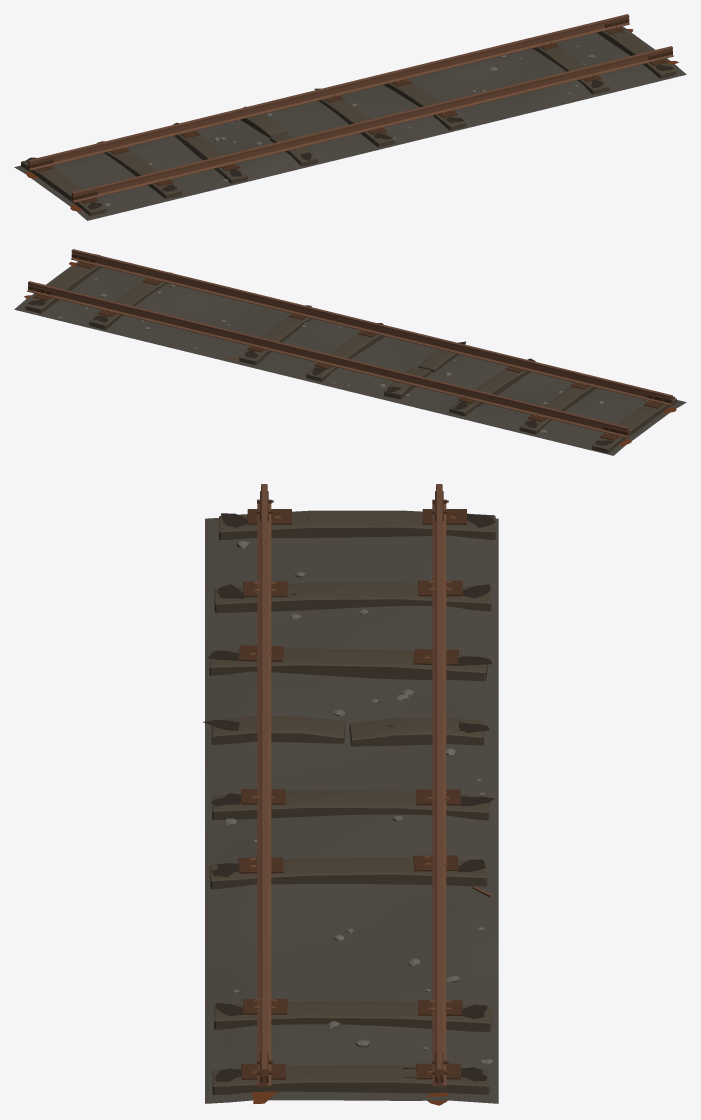
File: rail_track.glb
The picture shows the model from 3 angles, top to bottom: view 1: azimuth 30°, elevation 25°; view 2: azimuth 150°, elevation 25°; view 3: azimuth 270°, elevation 25°; orthographic projection. The views are drawn at different scales.
Visible parts, largest first — view 1: gleis6, gleis0, gleis2, gleis1, gleis3, gleis7; view 2: gleis6, gleis0, gleis2, gleis1, gleis3, gleis7; view 3: gleis6, gleis2, gleis0, gleis1, gleis3, gleis7.
Boxes of the visible parts, x1,y1,x2,y2 form: gleis6: [14, 26, 686, 220]; gleis0: [27, 14, 673, 202]; gleis2: [21, 31, 676, 216]; gleis1: [28, 18, 672, 203]; gleis3: [26, 65, 673, 209]; gleis7: [105, 45, 595, 206]; gleis6: [14, 261, 686, 455]; gleis0: [27, 249, 673, 437]; gleis2: [25, 265, 676, 453]; gleis1: [28, 253, 672, 440]; gleis3: [28, 254, 675, 445]; gleis7: [57, 278, 648, 433]; gleis6: [205, 518, 498, 1103]; gleis2: [209, 510, 495, 1095]; gleis0: [257, 484, 446, 1086]; gleis1: [238, 491, 466, 1083]; gleis3: [203, 513, 495, 1081]; gleis7: [225, 540, 493, 1065].
Size of the model in its own units: 5.06 by 0.151 by 1.07.
